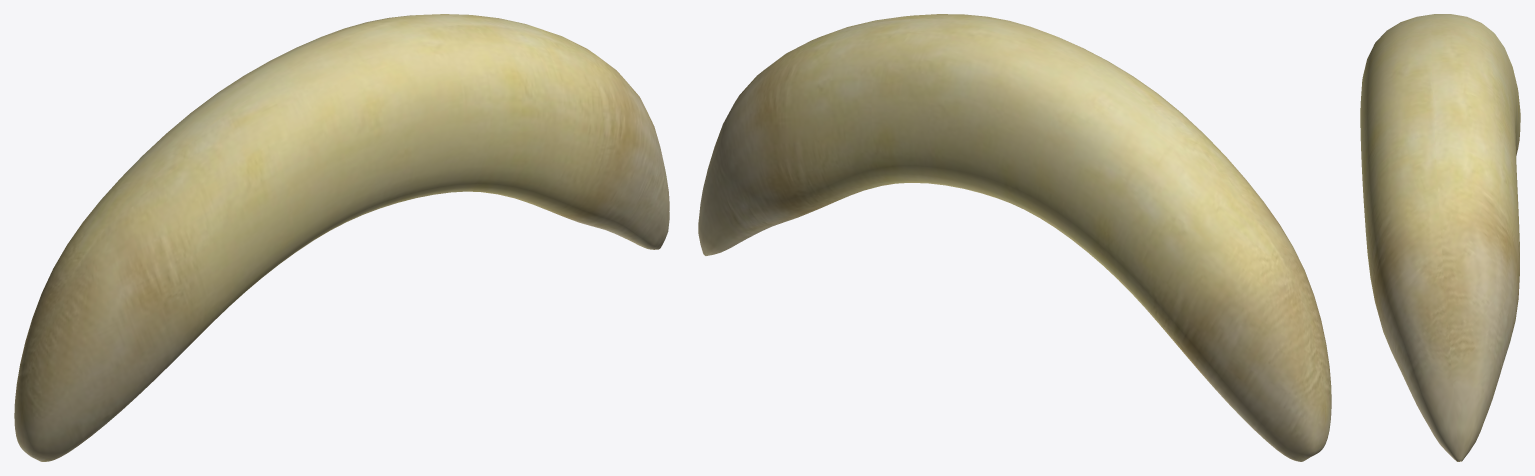
Rendered from YellowBananaEndocarp.obj.
3 renders of one model, left to right at view 1: azimuth 30°, elevation 25°; view 2: azimuth 150°, elevation 25°; view 3: azimuth 270°, elevation 25°, orthographic. The views are drawn at different scales.
Parts seen in each view (by area): view 1: YellowBananaEndocarp; view 2: YellowBananaEndocarp; view 3: YellowBananaEndocarp.
Boxes of the visible parts, x1,y1,x2,y2 form: YellowBananaEndocarp: (14,14,669,461); YellowBananaEndocarp: (698,14,1331,461); YellowBananaEndocarp: (1360,14,1520,461).
Bounding box in the file's own units: 0.1782 × 0.0942 × 0.0403.
1 material, 1 textured.
